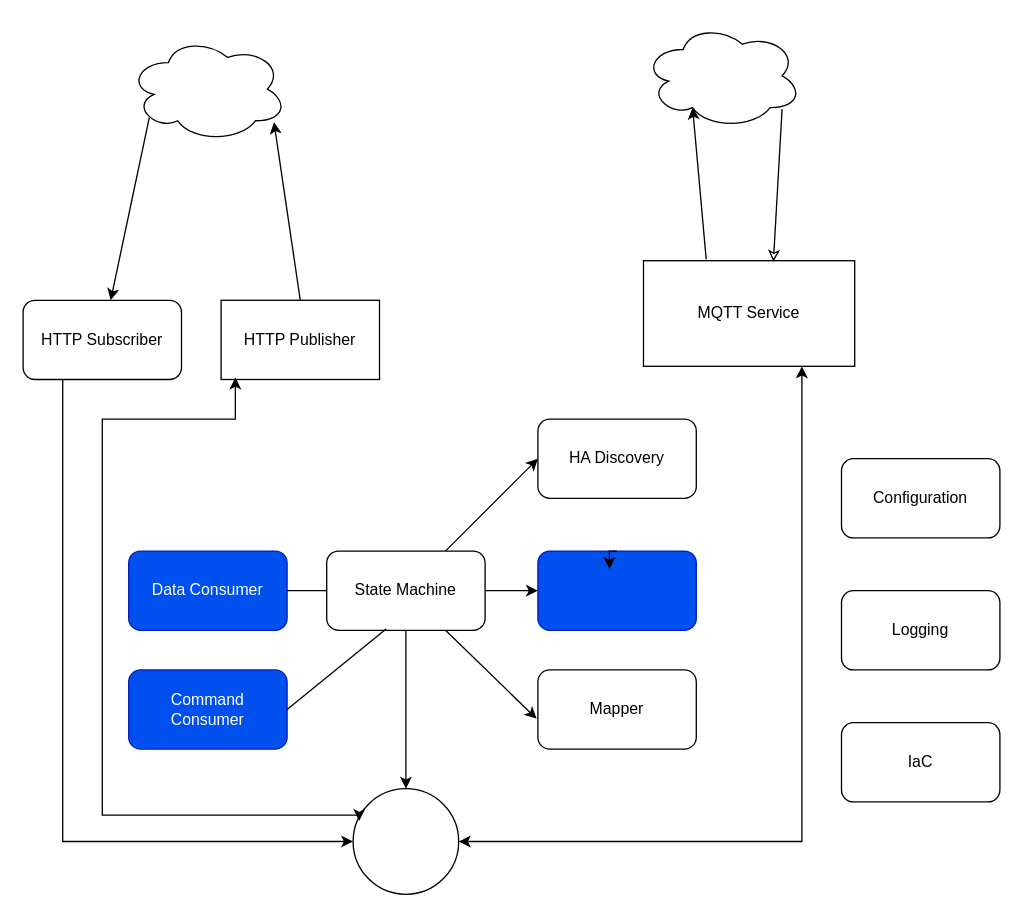
Some shapes in this 1023 by 917 pixel diagram are drawn without their labels. The centre of each missing label's shape, as x and y in pixels:
"Bus" belongs at (x=405, y=840).
"MQTT Broker" belongs at (x=722, y=75).
"Storage" belongs at (x=616, y=590).
"Weather Station" belongs at (x=207, y=88).
